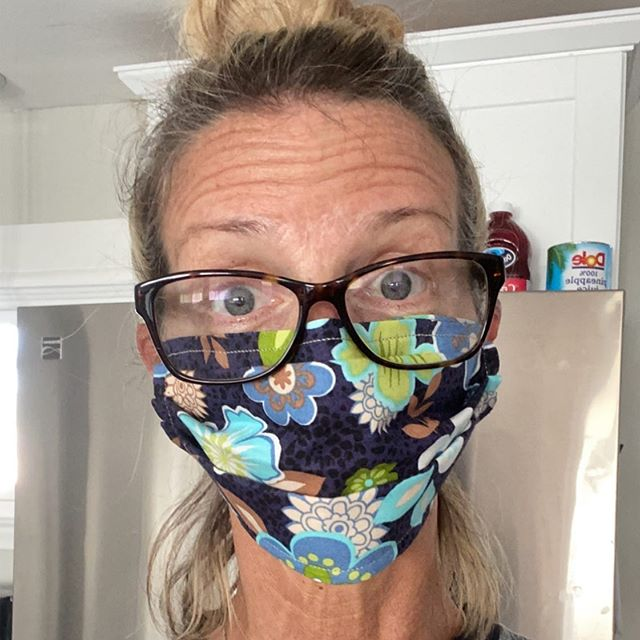homemade: (137, 317, 545, 594)
